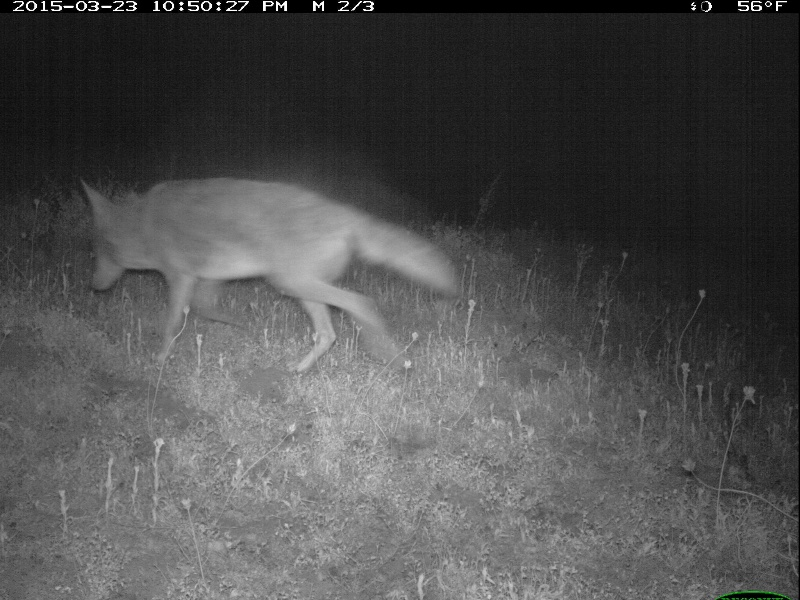coyote: (76, 176, 470, 376)
